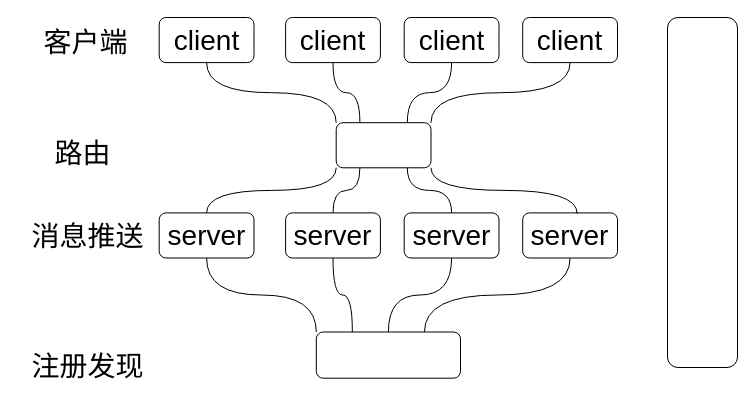
This 755x409 diagram has some shape labels left out. Here are the shapes that lost their labels. From the top down, the box of each, then its label:
(335, 122, 431, 168): route
(666, 16, 738, 368): redis
(315, 331, 460, 378): zookeeper
